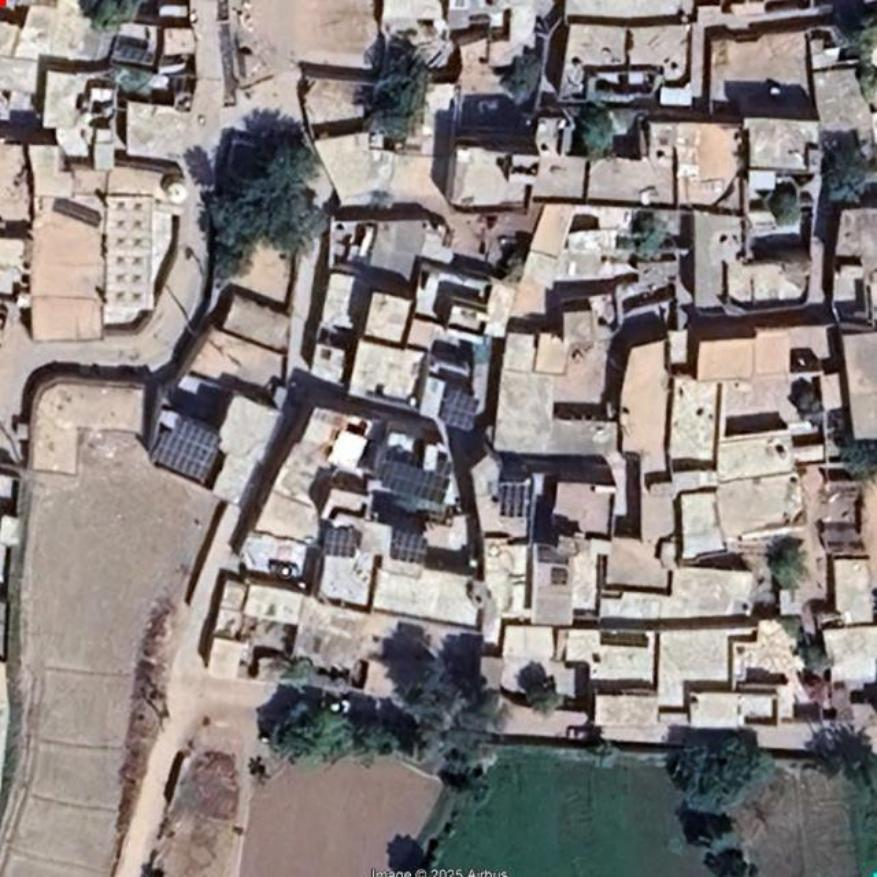Solarpanel: (155, 416, 222, 487), (382, 459, 449, 505), (438, 388, 481, 432), (323, 527, 356, 557), (112, 44, 153, 67), (393, 534, 427, 560)
